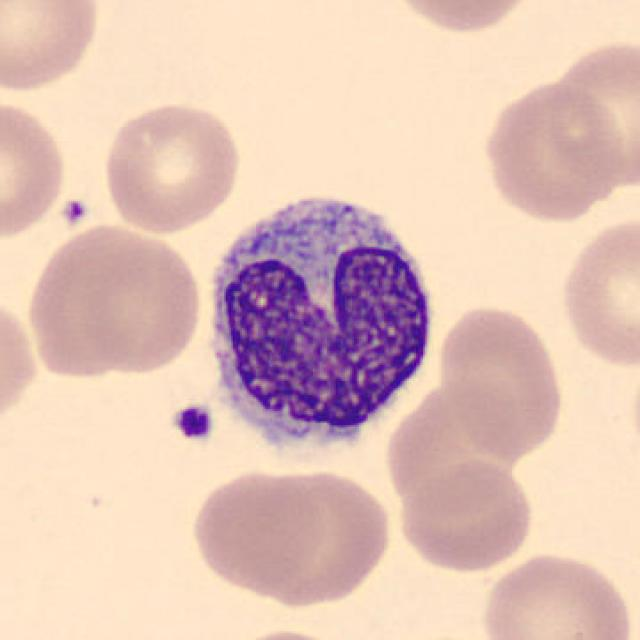Monocyte: (192, 176, 448, 474)
Platelets: (167, 400, 217, 444), (58, 194, 90, 229)
RBC: (23, 222, 203, 381), (476, 76, 630, 226), (242, 464, 396, 608), (434, 300, 569, 462), (98, 99, 245, 236), (187, 465, 327, 596), (393, 455, 539, 575), (539, 35, 638, 194), (476, 548, 636, 640), (555, 210, 638, 372), (0, 94, 71, 244), (0, 0, 105, 95), (0, 287, 41, 439), (384, 0, 544, 37), (217, 626, 361, 640)
